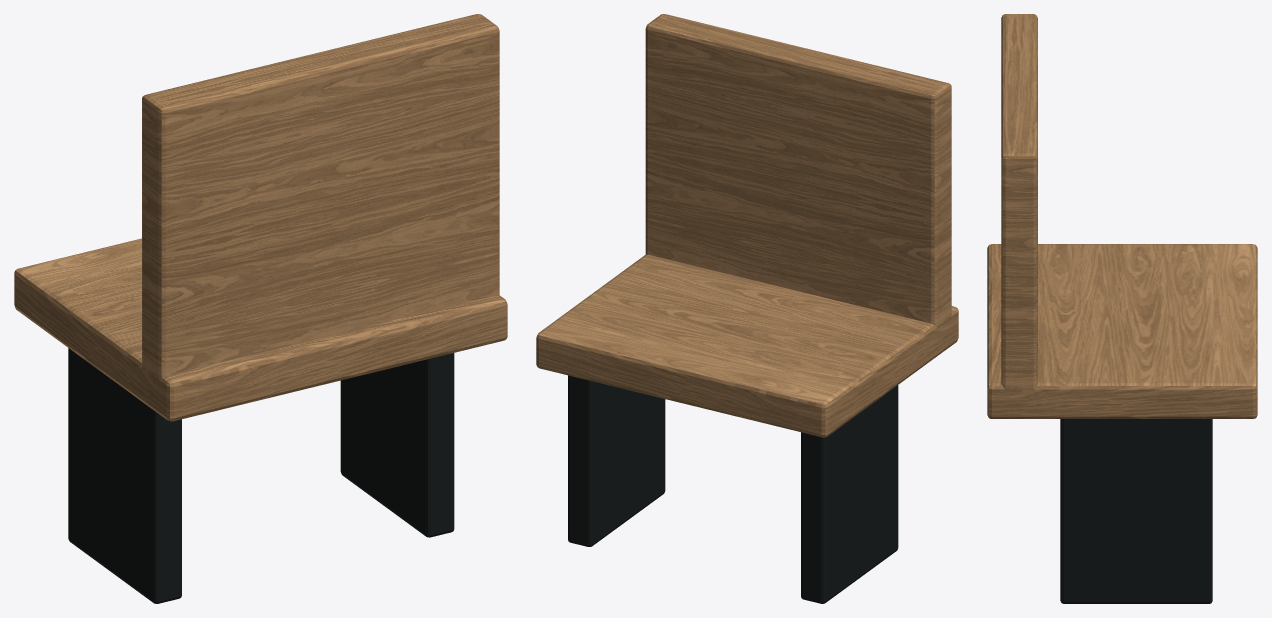
The model's file is hiperreal-hd.glb.
3 views of the same model, side by side, from view 1: azimuth 30°, elevation 25°; view 2: azimuth 150°, elevation 25°; view 3: azimuth 270°, elevation 25° (orthographic). The views are drawn at different scales.
Parts seen in each view (by area): view 1: starbucksChair_1, starbucksChair_0, starbucksChair_2, starbucksChair_3; view 2: starbucksChair_1, starbucksChair_0, starbucksChair_2, starbucksChair_3; view 3: starbucksChair_0, starbucksChair_3, starbucksChair_1.
Boxes of the visible parts, x1,y1,x2,y2 form: starbucksChair_1: (142, 14, 499, 381); starbucksChair_0: (14, 238, 507, 421); starbucksChair_2: (68, 348, 181, 603); starbucksChair_3: (340, 353, 454, 537); starbucksChair_1: (645, 14, 951, 328); starbucksChair_0: (536, 254, 958, 437); starbucksChair_2: (801, 385, 898, 603); starbucksChair_3: (568, 375, 665, 546); starbucksChair_0: (987, 244, 1257, 418); starbucksChair_3: (1060, 419, 1212, 603); starbucksChair_1: (1001, 14, 1037, 391).
Bounding box in the file's own units: 0.6 × 0.89 × 0.48.
Materials: 2 (1 with a texture image).
